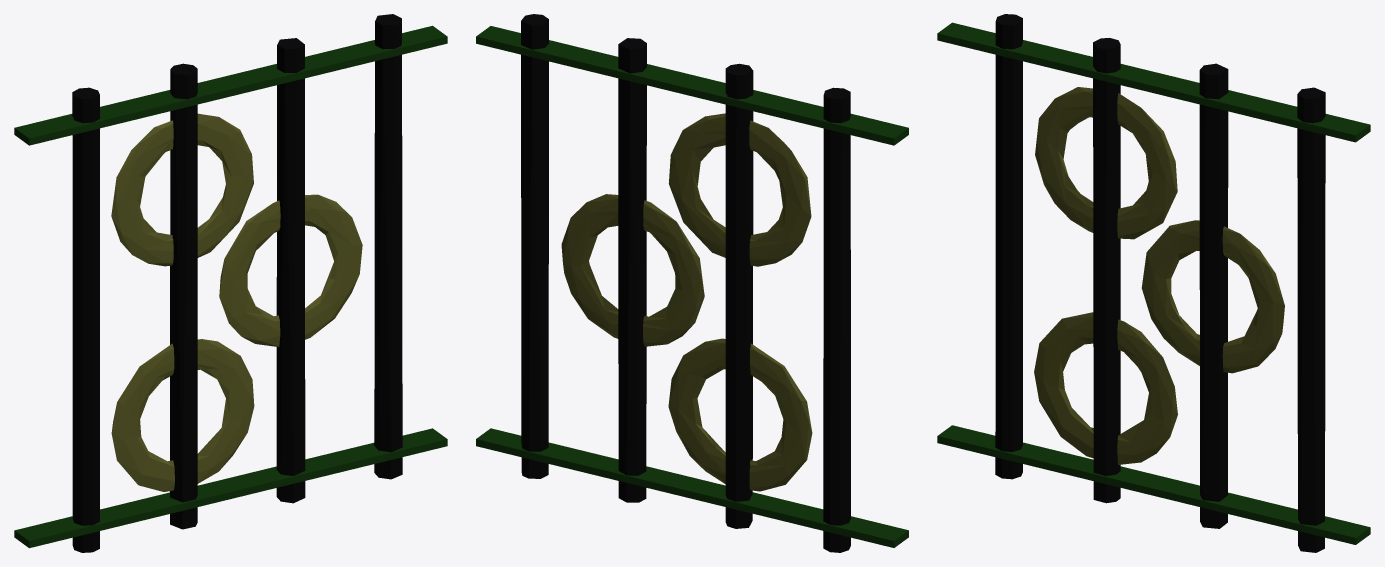
The model's file is barandal_pueblito.glb.
3 views of the same model, side by side, from view 1: azimuth 30°, elevation 25°; view 2: azimuth 150°, elevation 25°; view 3: azimuth 330°, elevation 25° (orthographic).
Parts seen in each view (by area): view 1: vert, donas, horz; view 2: vert, donas, horz; view 3: vert, donas, horz.
Part boxes in pixels (x1=…): vert: x1=72, y1=14, x2=402, y2=552; donas: x1=111, y1=113, x2=362, y2=491; horz: x1=14, y1=25, x2=447, y2=548; vert: x1=521, y1=14, x2=850, y2=552; donas: x1=561, y1=113, x2=812, y2=491; horz: x1=476, y1=26, x2=908, y2=547; vert: x1=995, y1=14, x2=1325, y2=552; donas: x1=1034, y1=87, x2=1284, y2=464; horz: x1=937, y1=22, x2=1370, y2=544.
Size of the model in its own units: 7.3 by 7.57 by 0.4453.
